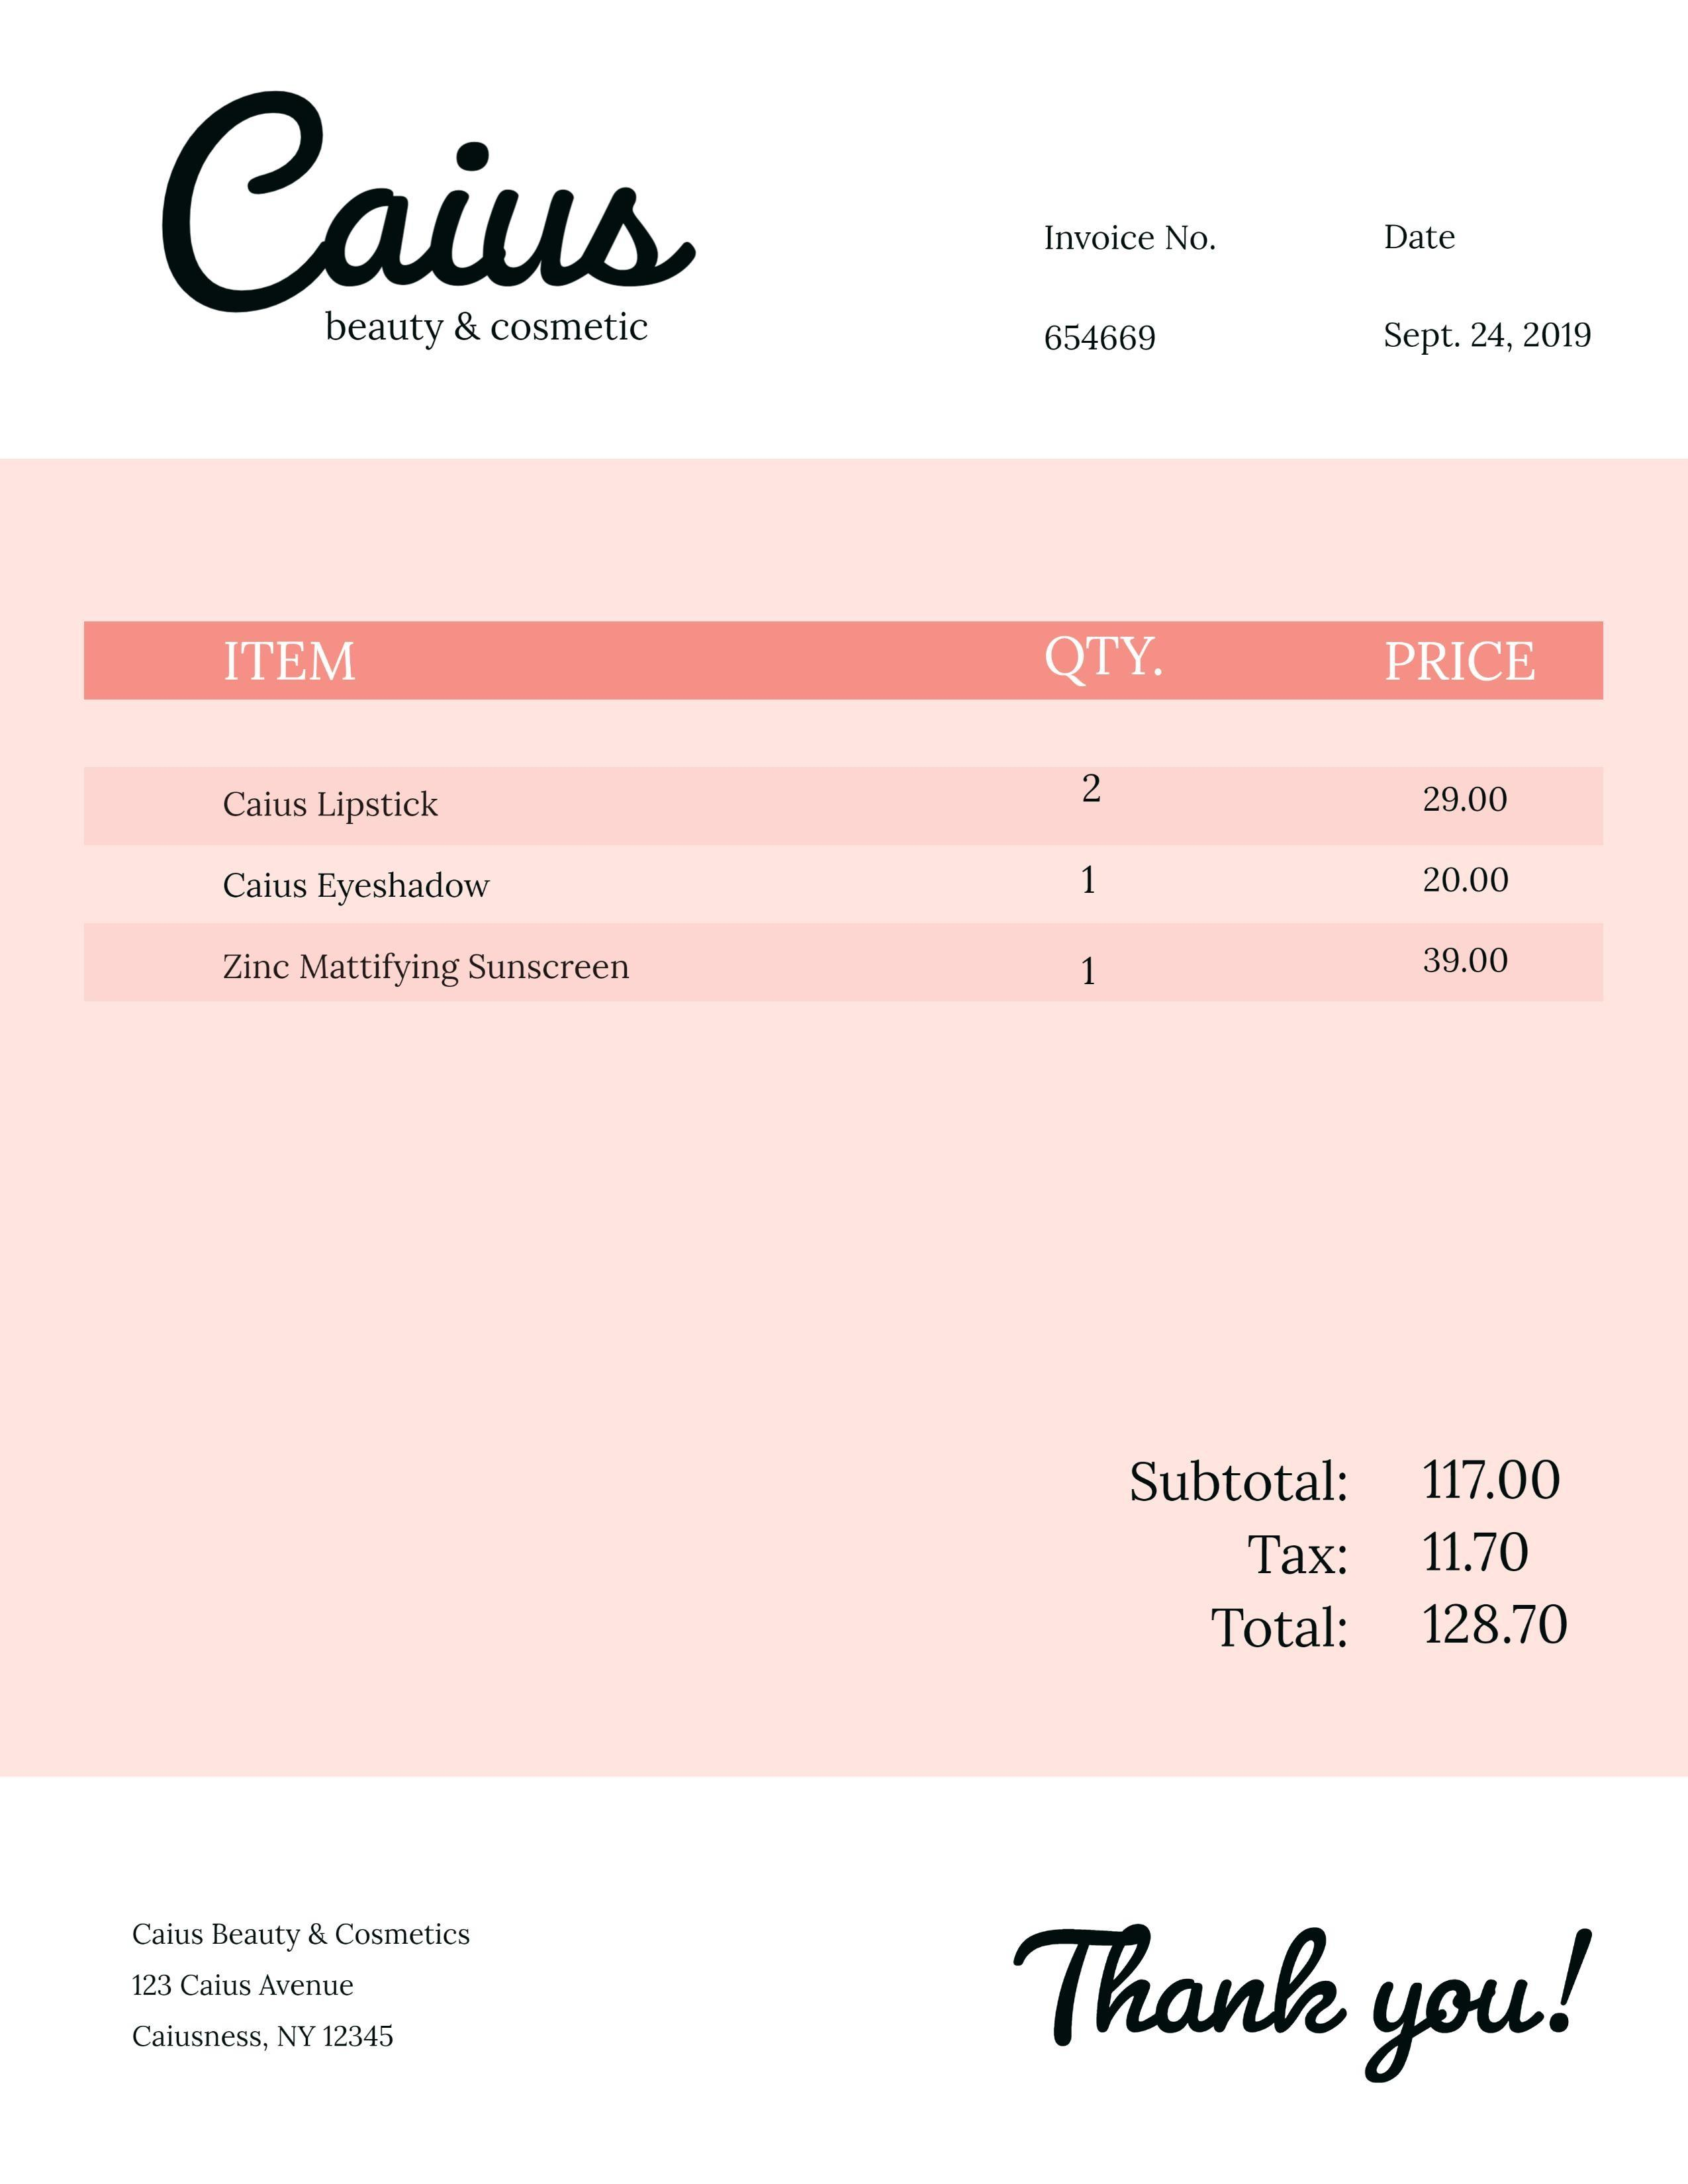ROI: (56, 611, 1623, 1002), (121, 64, 767, 374), (1078, 1408, 1644, 1701), (1036, 213, 1648, 385)
